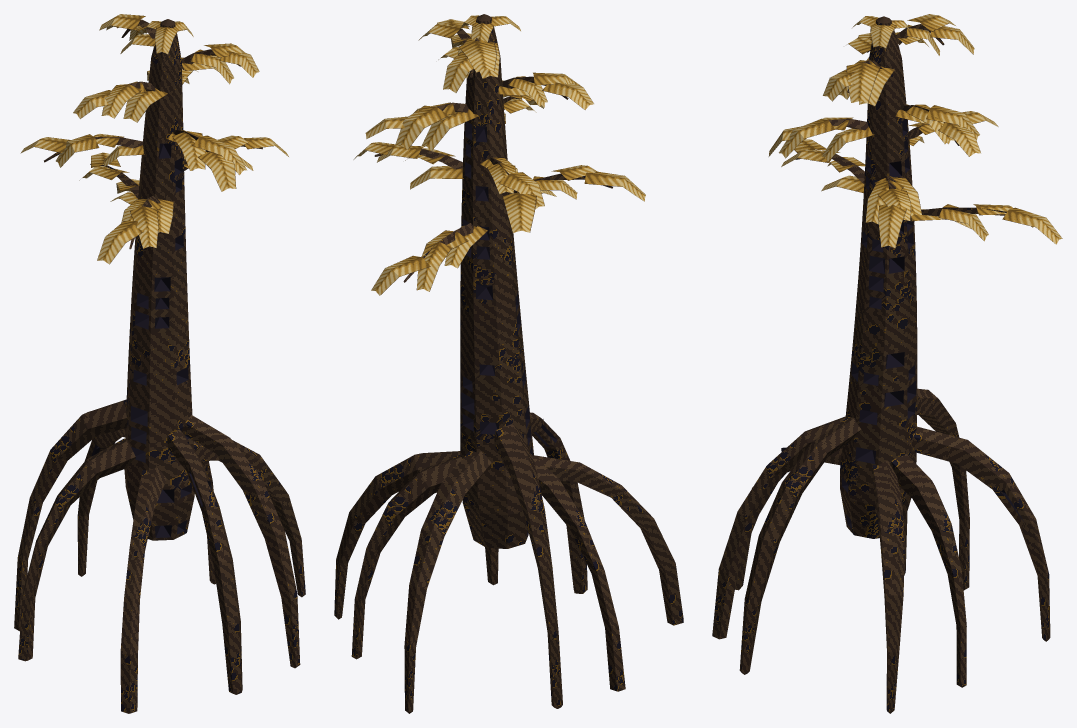
Rendered from arbolZancudo2.gltf.
3 renders of one model, left to right at view 1: azimuth 30°, elevation 25°; view 2: azimuth 150°, elevation 25°; view 3: azimuth 270°, elevation 25°, orthographic. The views are drawn at different scales.
Visible parts, largest first — view 1: FLO-02_Arbol_zancudo_a.020; view 2: FLO-02_Arbol_zancudo_a.020; view 3: FLO-02_Arbol_zancudo_a.020.
Part boxes in pixels (x1,y1,x2,y2): FLO-02_Arbol_zancudo_a.020: (14, 14, 305, 713); FLO-02_Arbol_zancudo_a.020: (334, 14, 683, 713); FLO-02_Arbol_zancudo_a.020: (712, 14, 1062, 713).
Bounding box in the file's own units: 4.96 × 10.28 × 5.19.
1 material, 1 textured.
